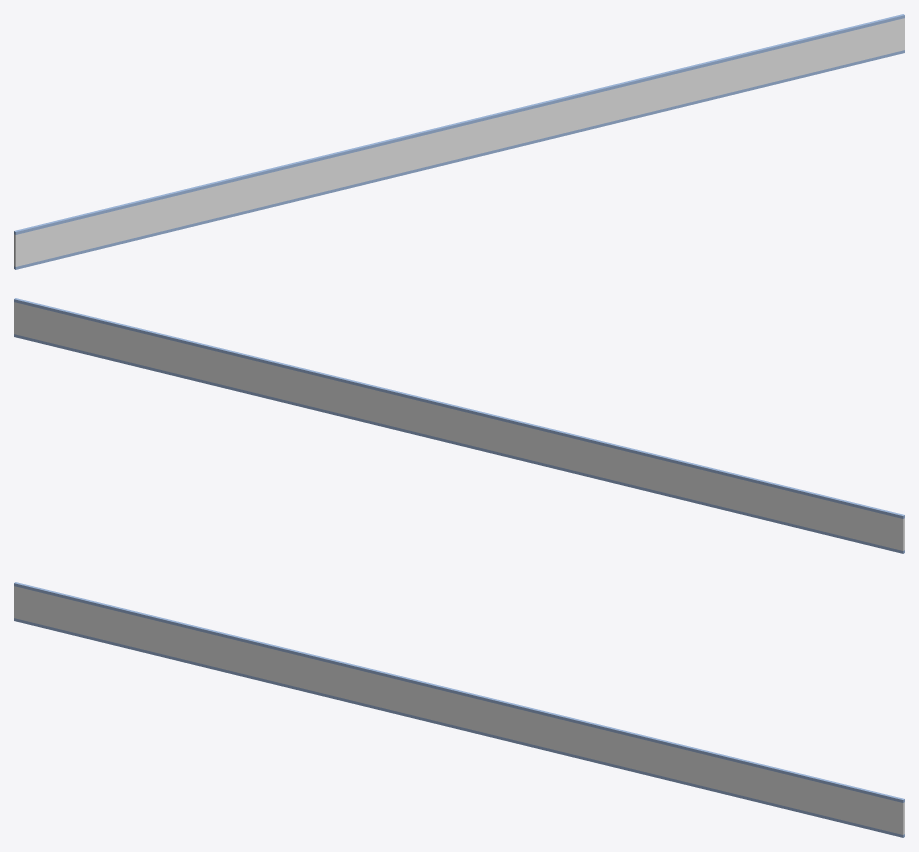
File: Fight_739_2_18_fx.obj
The picture shows the model from 3 angles, top to bottom: view 1: azimuth 30°, elevation 25°; view 2: azimuth 150°, elevation 25°; view 3: azimuth 330°, elevation 25°; orthographic projection.
Bounding box in the file's own units: 32 × 1.3 × 0.1.
1 material, 1 textured.
